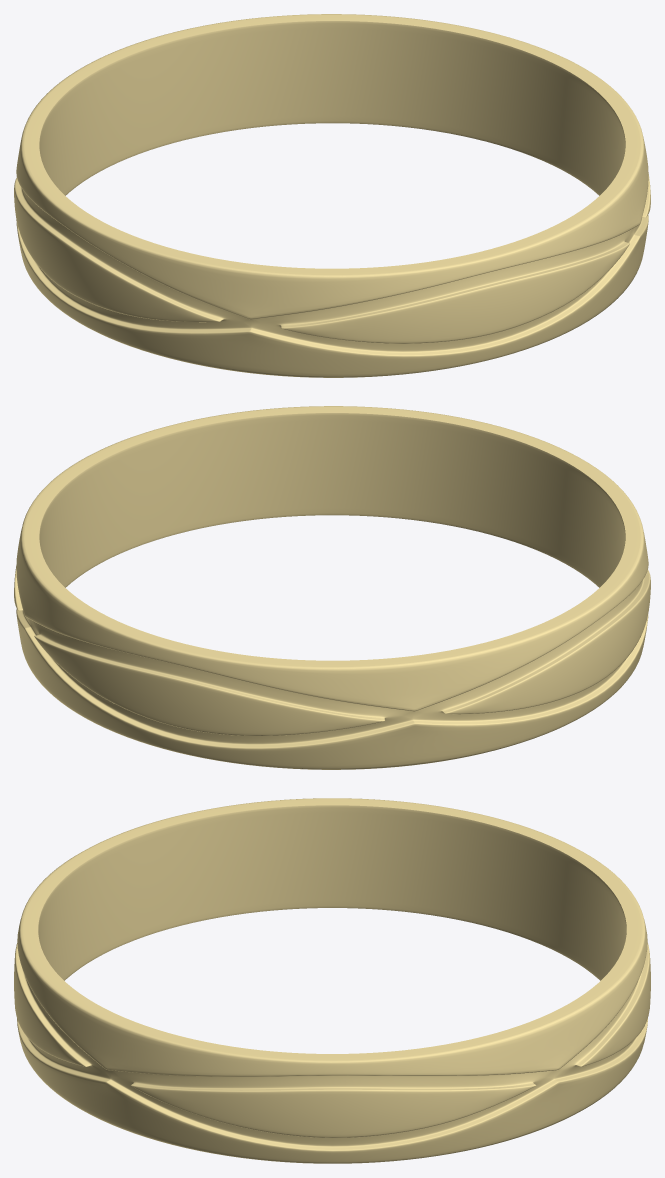
3 renders of one model, top to bottom at view 1: azimuth 30°, elevation 25°; view 2: azimuth 150°, elevation 25°; view 3: azimuth 270°, elevation 25°, orthographic.
Visible parts, largest first — view 1: Base_Metal, Engraving_Mesh; view 2: Base_Metal, Engraving_Mesh; view 3: Base_Metal, Engraving_Mesh.
Part boxes in pixels (x1,y1,x2,y2): Base_Metal: [14, 14, 650, 377]; Engraving_Mesh: [39, 21, 625, 195]; Base_Metal: [14, 406, 650, 769]; Engraving_Mesh: [39, 413, 625, 587]; Base_Metal: [14, 798, 650, 1163]; Engraving_Mesh: [38, 805, 626, 980].
Bounding box in the file's own units: 2.25 × 0.4 × 2.25.
